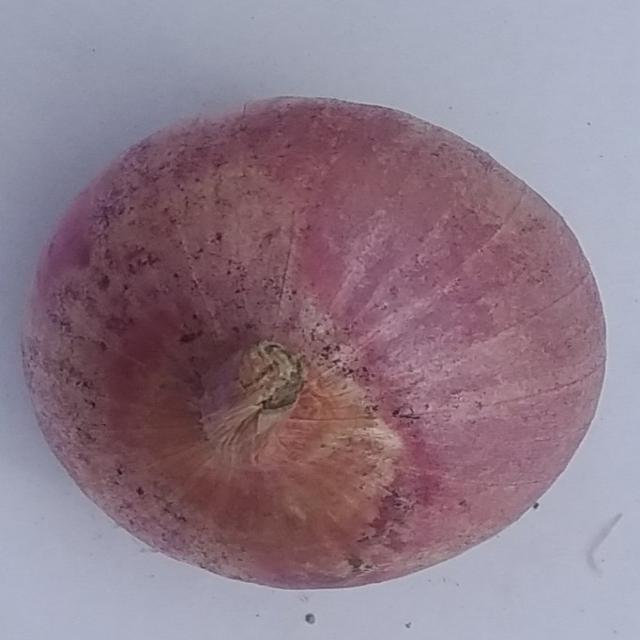onion: (15, 91, 611, 593)
